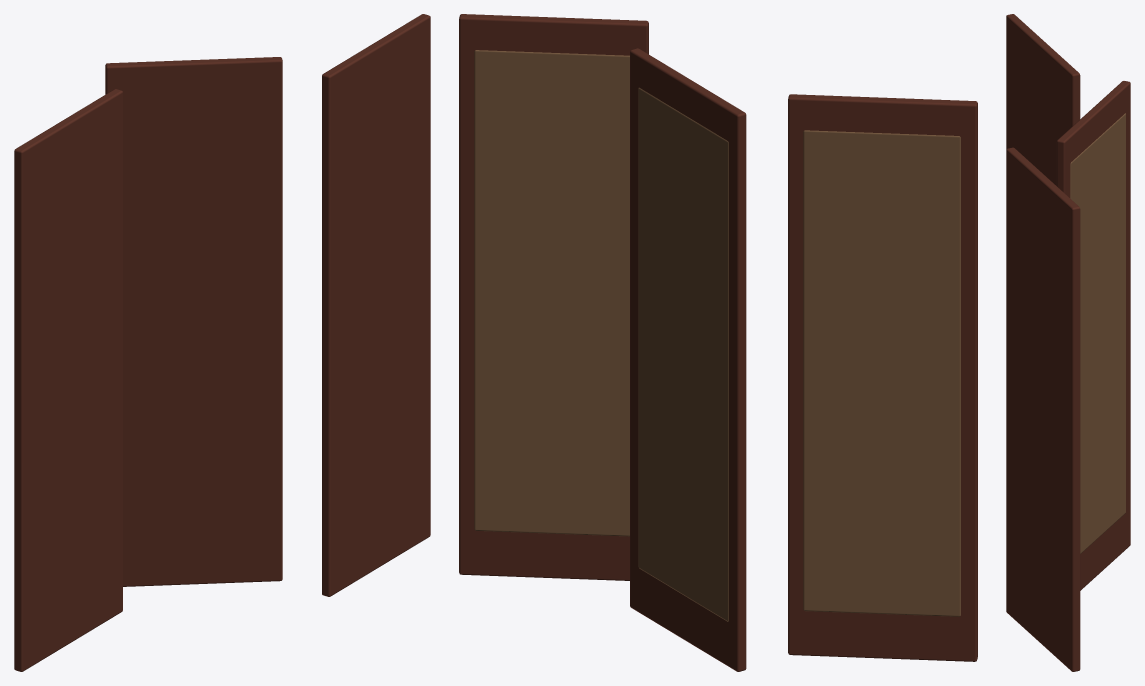
The model's file is SM_PRP_Biombo.fbx.
The picture shows the model from 3 angles, left to right: view 1: azimuth 30°, elevation 25°; view 2: azimuth 150°, elevation 25°; view 3: azimuth 270°, elevation 25°; orthographic projection. The views are drawn at different scales.
Parts seen in each view (by area): view 1: SM_PRP_Biombo; view 2: SM_PRP_Biombo; view 3: SM_PRP_Biombo.
Part boxes in pixels (x1,y1,x2,y2): SM_PRP_Biombo: (14,14,430,671); SM_PRP_Biombo: (459,14,977,671); SM_PRP_Biombo: (1006,14,1130,671).
Size of the model in its own units: 1.46 by 1.62 by 0.3938.
